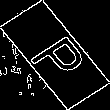P_NE: (20, 26, 90, 84)
